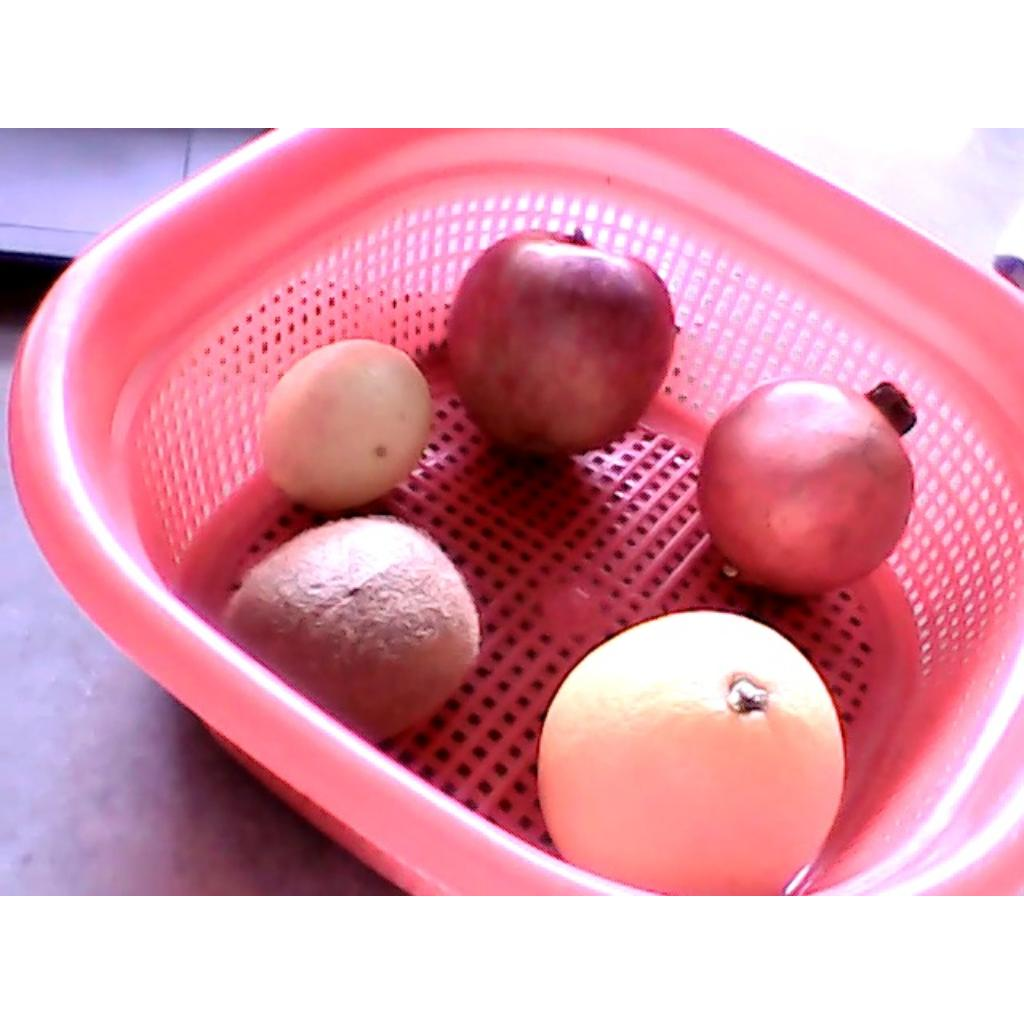apple: (446, 230, 679, 458)
kiwi: (222, 515, 480, 747)
lemon: (262, 338, 434, 510)
orange: (535, 612, 845, 894)
pomegranate: (697, 379, 918, 596)
